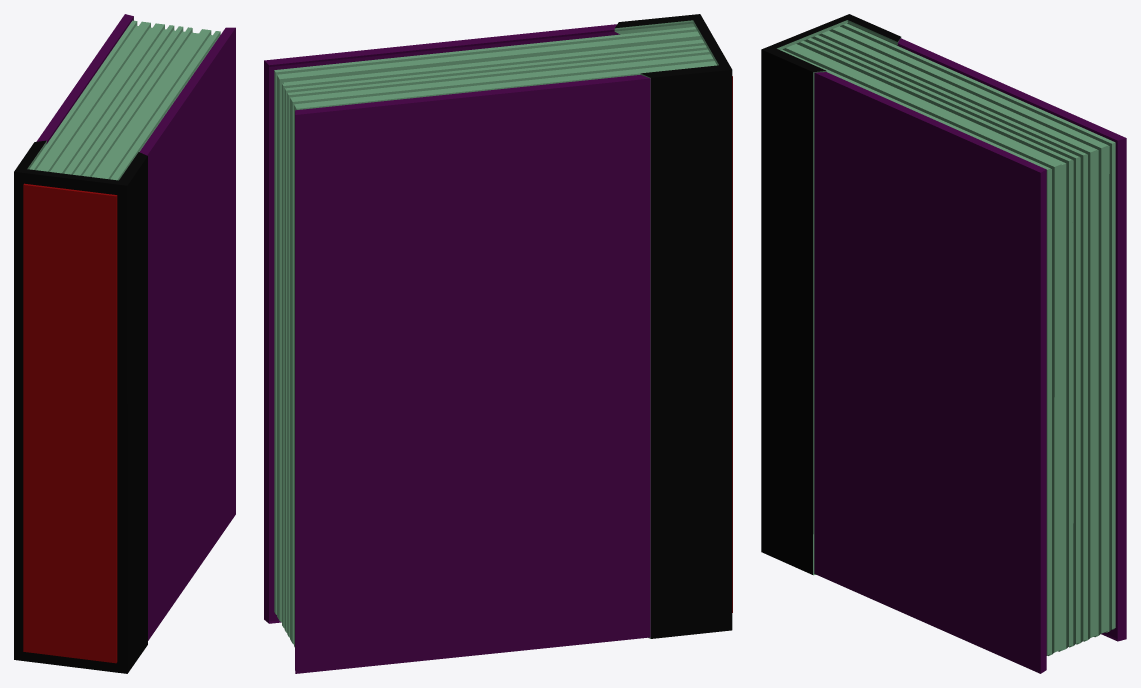
The model's file is ThirdShelfBook12.fbx.
3 renders of one model, left to right at view 1: azimuth 30°, elevation 25°; view 2: azimuth 150°, elevation 25°; view 3: azimuth 270°, elevation 25°, orthographic. The views are drawn at different scales.
Visible parts, largest first — view 1: Book.006; view 2: Book.006; view 3: Book.006.
Boxes of the visible parts, bbox=[...] form: Book.006: bbox=[14, 14, 235, 673]; Book.006: bbox=[264, 14, 732, 673]; Book.006: bbox=[761, 14, 1126, 673].
Bounding box in the file's own units: 118 × 175 × 115.
